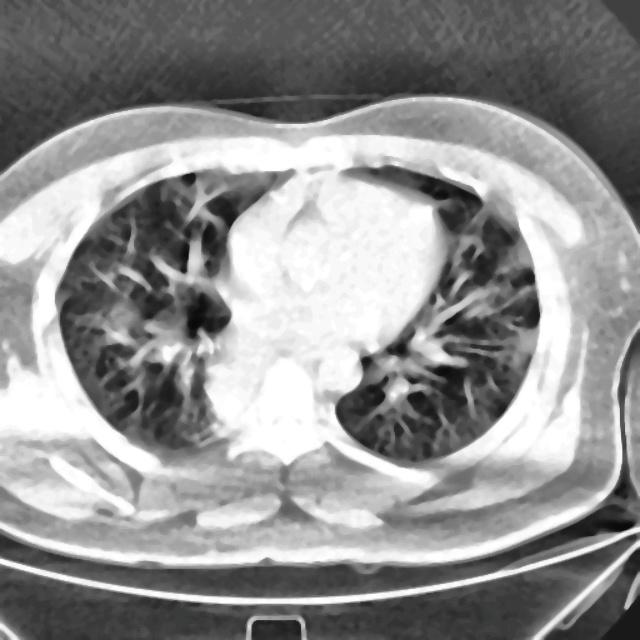covid: (1, 94, 638, 574)
